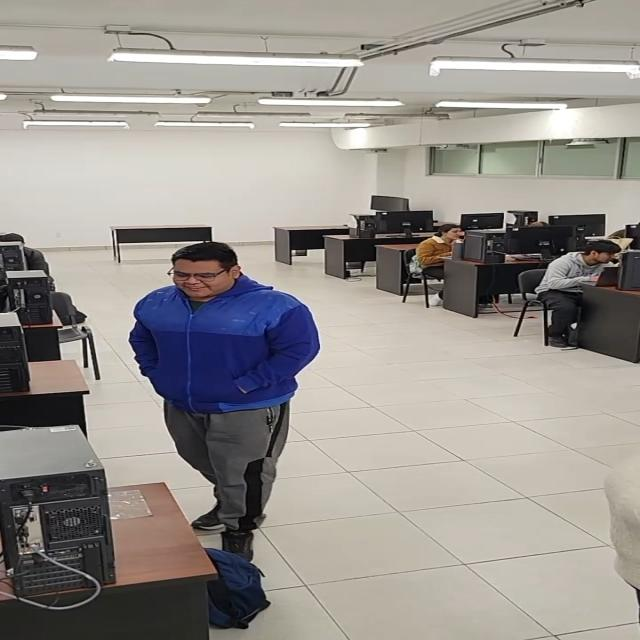Persona: (120, 229, 338, 582)
